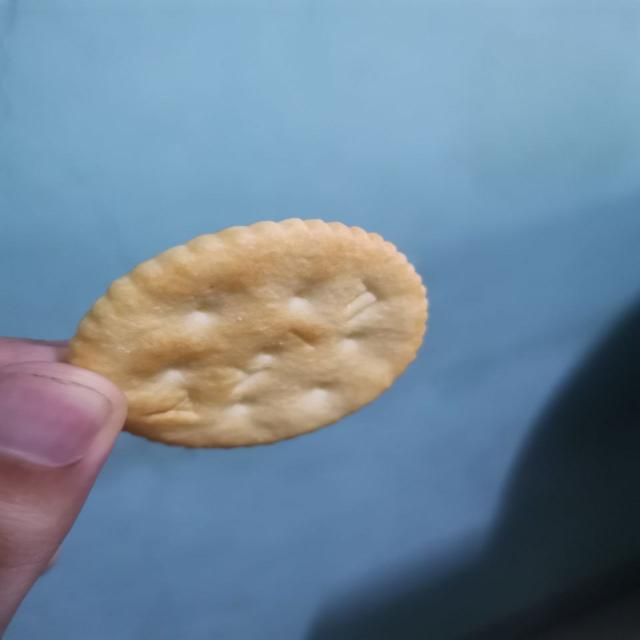intact biscuit: (64, 215, 431, 450)
